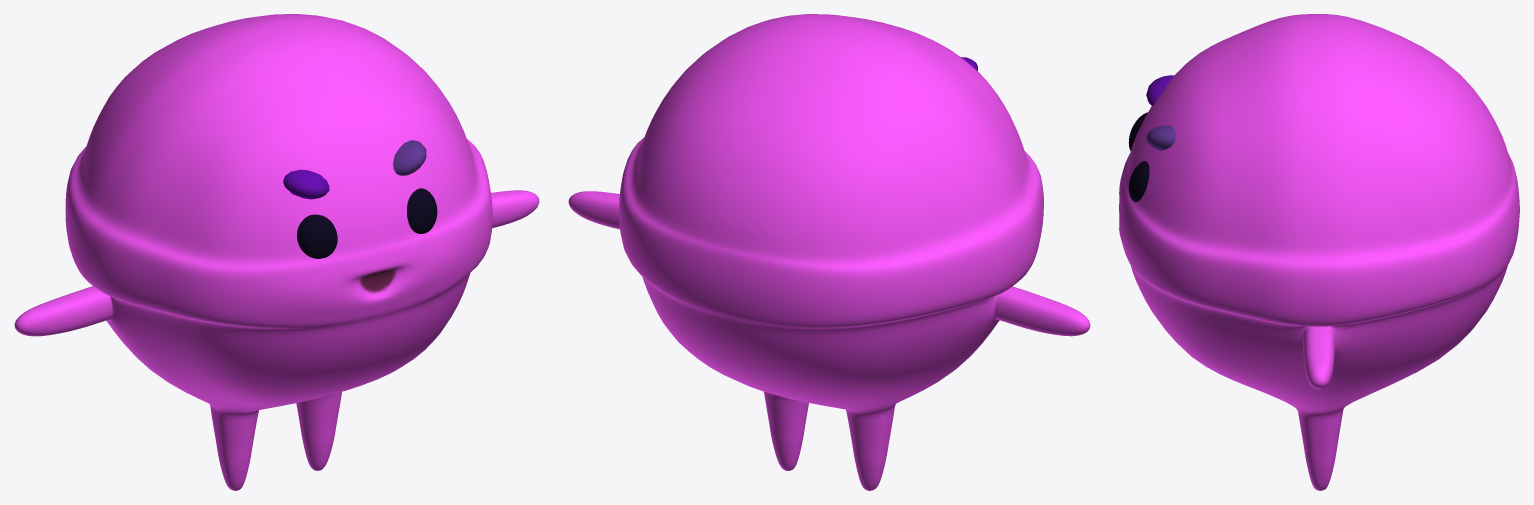
File: gumakolor.fbx
3 views of the same model, side by side, from view 1: azimuth 30°, elevation 25°; view 2: azimuth 150°, elevation 25°; view 3: azimuth 270°, elevation 25° (orthographic). The views are drawn at different scales.
Visible parts, largest first — view 1: Roundcube.001, Roundcube.002, Roundcube.004, Roundcube.003; view 2: Roundcube.001; view 3: Roundcube.001, Roundcube.002, Roundcube.003.
Boxes of the visible parts, x1,y1,x2,y2 form: Roundcube.001: (14,14,539,490); Roundcube.002: (297,188,437,258); Roundcube.004: (283,169,329,199); Roundcube.003: (393,140,426,175); Roundcube.001: (568,14,1090,490); Roundcube.001: (1119,14,1519,490); Roundcube.002: (1128,112,1149,201); Roundcube.003: (1146,125,1176,150).
Size of the model in its own units: 284 by 234 by 195.
4 materials, 1 textured.
